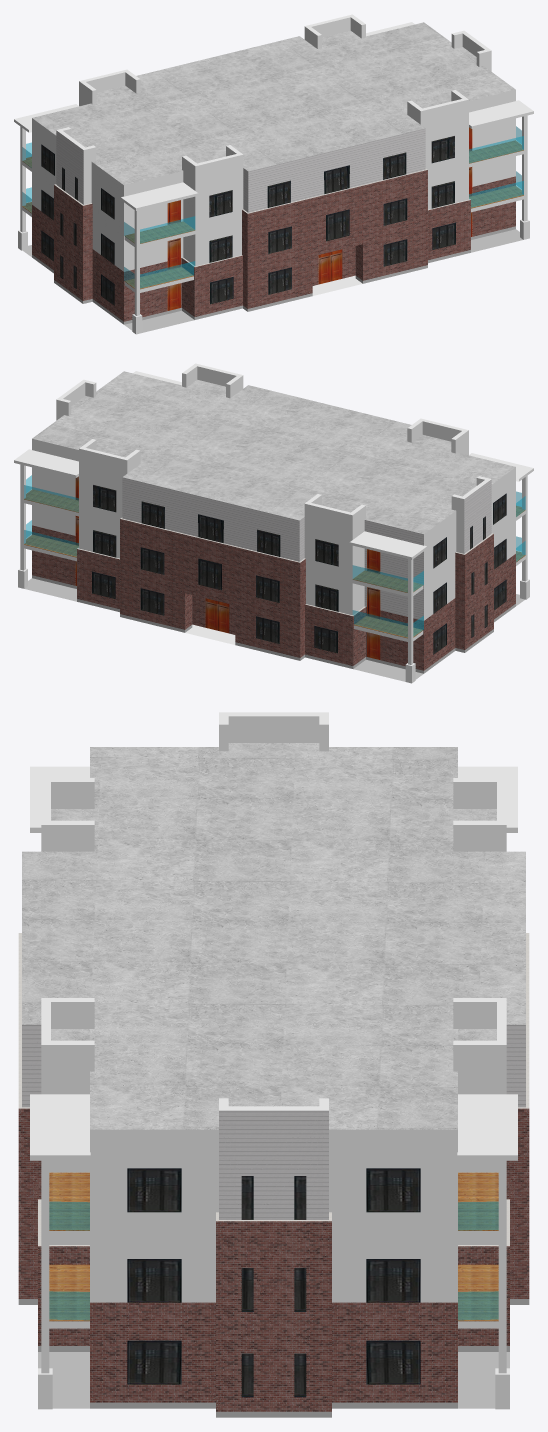
The model's file is Building_1.fbx.
3 views of the same model, one above another, from view 1: azimuth 30°, elevation 25°; view 2: azimuth 150°, elevation 25°; view 3: azimuth 270°, elevation 25° (orthographic). The views are drawn at different scales.
Parts seen in each view (by area): view 1: Model; view 2: Model; view 3: Model.
Boxes of the visible parts, left/top/right/bottom form: Model: left=14, top=14, right=533, bottom=332; Model: left=14, top=363, right=533, bottom=681; Model: left=18, top=712, right=529, bottom=1417.
Size of the model in its own units: 2984 by 1061 by 1605.
